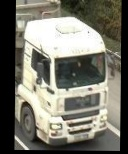truck: (14, 0, 109, 146)
